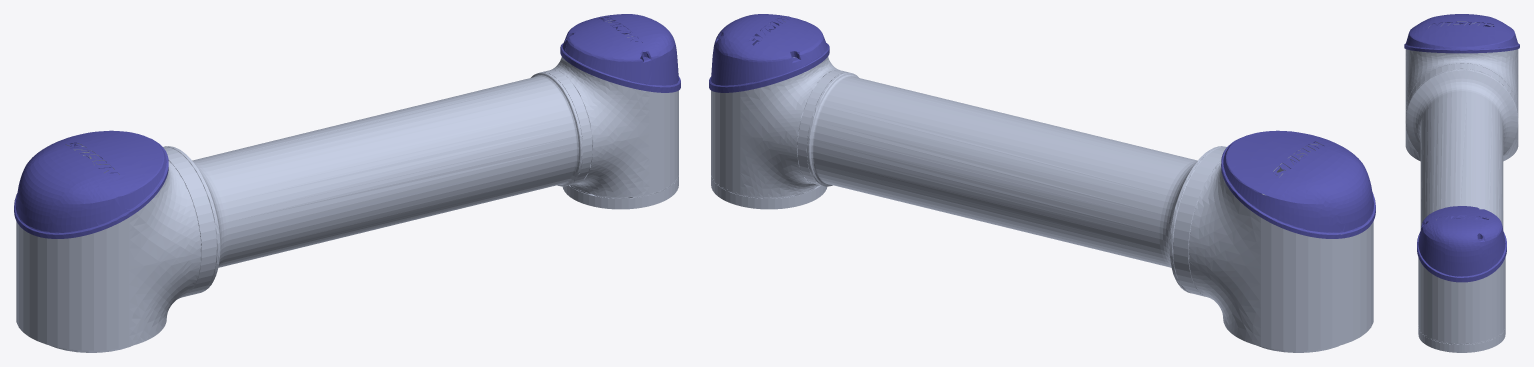
3 views of the same model, side by side, from view 1: azimuth 30°, elevation 25°; view 2: azimuth 150°, elevation 25°; view 3: azimuth 270°, elevation 25° (orthographic). The views are drawn at different scales.
Parts seen in each view (by area): view 1: link2; view 2: link2; view 3: link2.
Boxes of the visible parts, x1=… form: link2: x1=14, y1=14, x2=680, y2=352; link2: x1=709, y1=14, x2=1375, y2=352; link2: x1=1404, y1=14, x2=1519, y2=352.
Bounding box in the file's own units: 0.745 × 0.154 × 0.1893.
